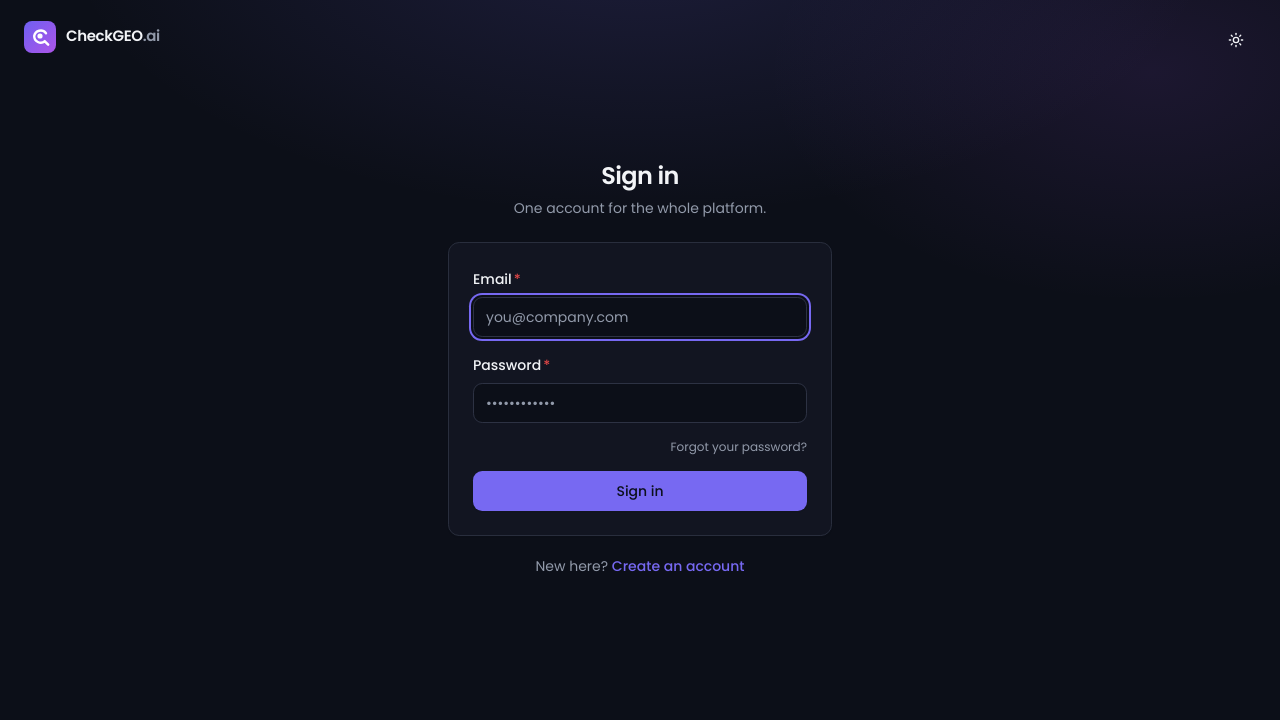
Test: Login page › validates before hitting the network
Click the button "Sign in": (640,491) left=473, top=471, right=807, bottom=511
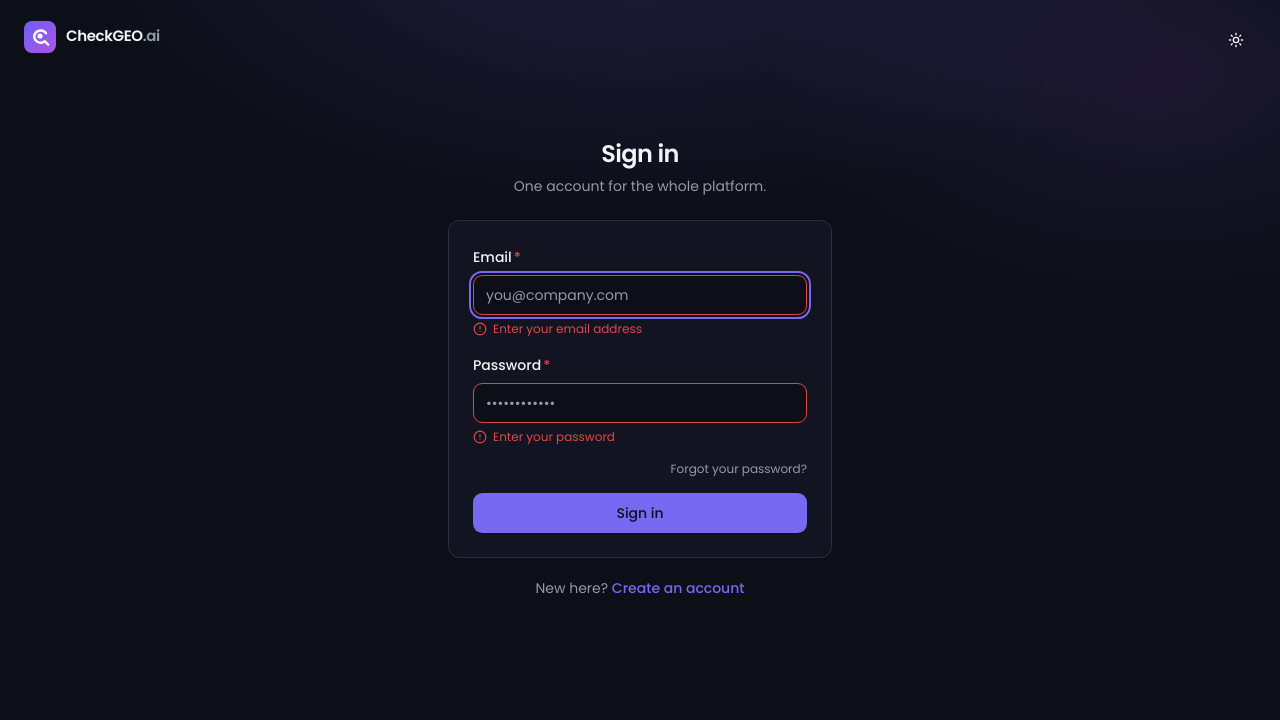
Check: the text "Enter your email address" is shown, box left=493, top=321, right=642, bottom=337
